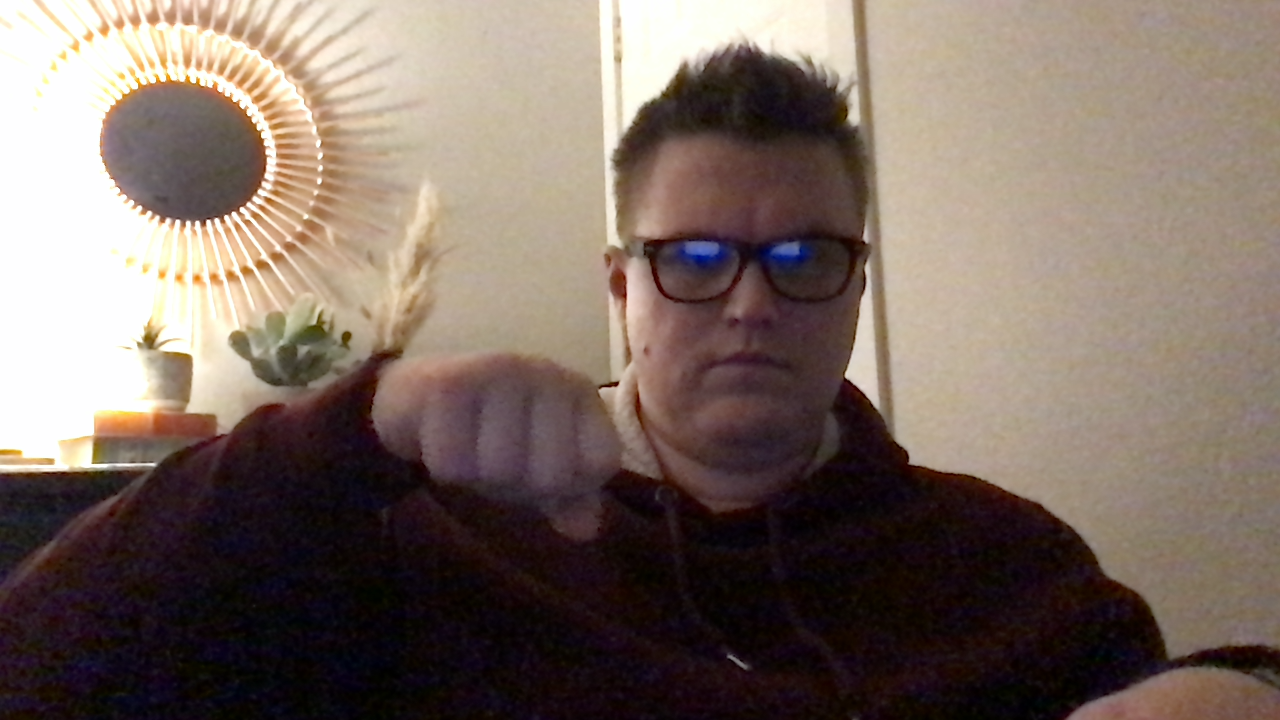yes: (358, 339, 638, 552)
